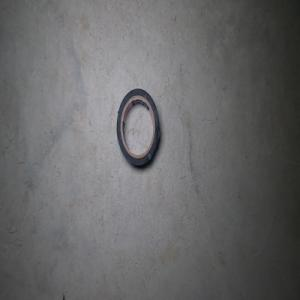Tape: (115, 88, 160, 168)
